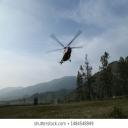helicopter: (49, 33, 85, 65)
